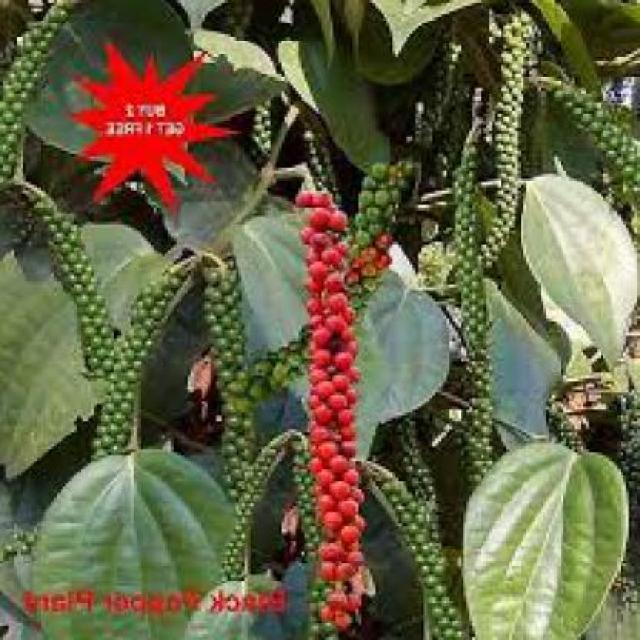RIPE: (309, 194, 362, 620), (373, 228, 402, 271)
UNRIPE: (386, 412, 472, 634), (202, 265, 305, 423), (100, 268, 185, 452), (37, 188, 117, 382), (2, 0, 80, 180), (456, 114, 493, 478), (220, 431, 311, 578), (487, 11, 536, 262), (550, 80, 639, 192), (422, 17, 473, 145), (362, 160, 416, 225), (626, 383, 639, 569), (3, 518, 37, 560), (314, 117, 334, 178), (259, 97, 279, 154), (228, 3, 255, 31)
